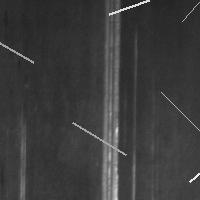scratches: (97, 1, 124, 199), (156, 87, 200, 157), (67, 117, 130, 159), (0, 21, 38, 67), (15, 113, 31, 200), (104, 0, 154, 19), (185, 141, 200, 186), (177, 0, 200, 26)
